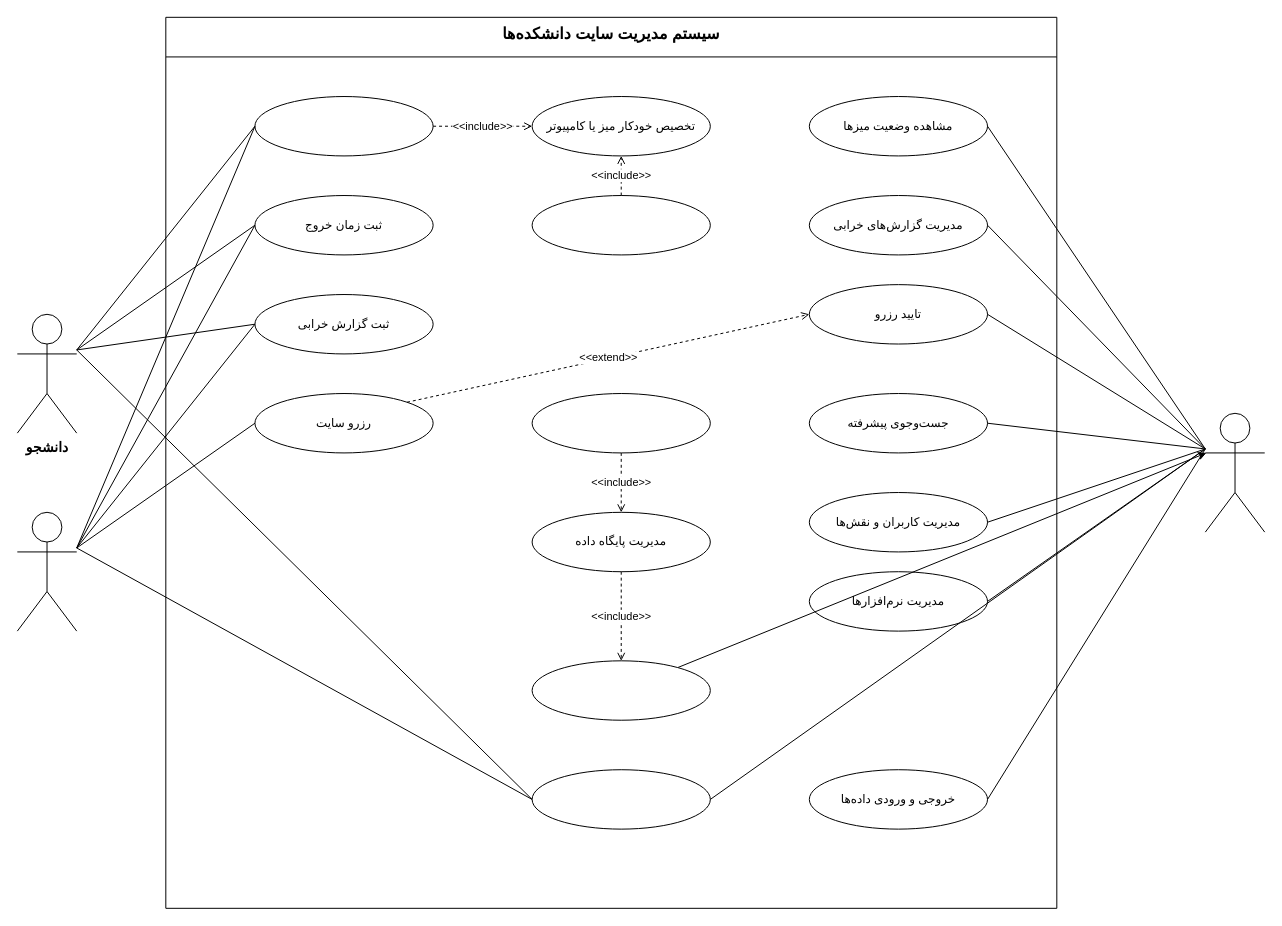
Image size: 1282x926. Some labels were removed from this diagram. The box of each missing label's shape, as (x1, y1, x2, y2) in pixels:
ادمین: (1204, 412, 1265, 532)
استاد: (16, 511, 77, 631)
اعلان‌ها: (531, 769, 710, 829)
جلوگیری از تخصیص هم‌زمان: (531, 195, 710, 255)
رابط کاربری واکنش‌گرا: (531, 393, 710, 453)
ورود با شماره دانشجویی یا شناسه کارمندی: (254, 96, 433, 156)
گزارش‌گیری و لاگ: (531, 660, 710, 720)
